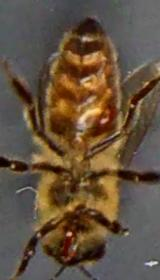varroa_mite: (85, 88, 124, 136)
